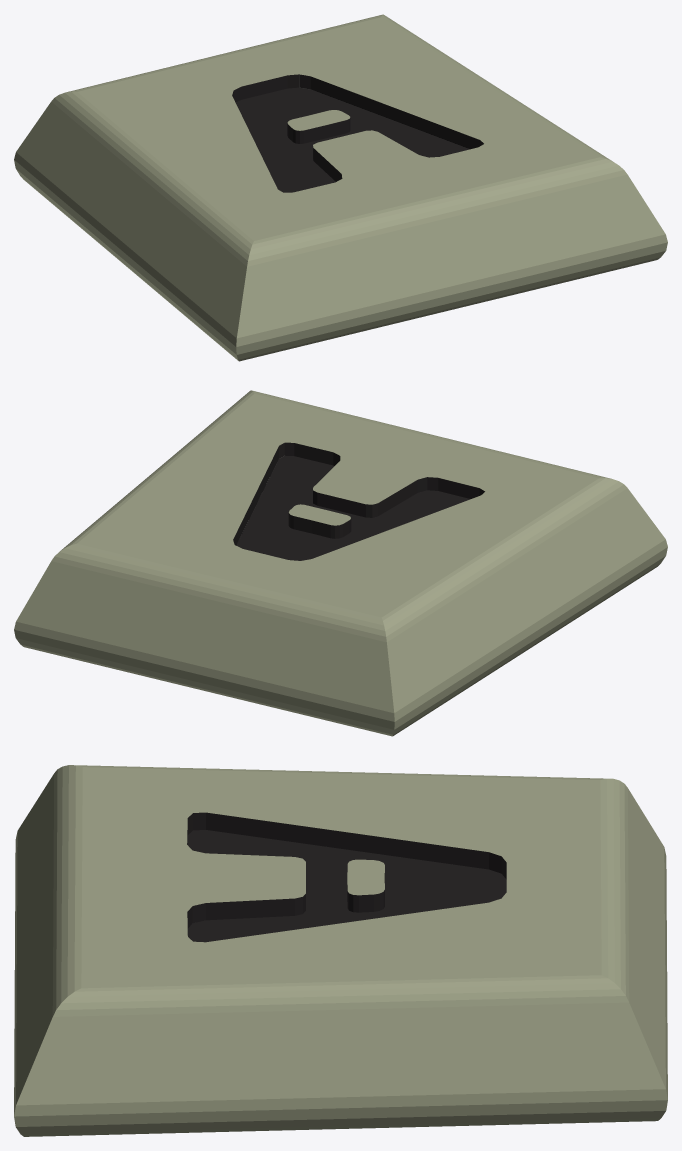
Rendered from a-key.glb.
3 renders of one model, top to bottom at view 1: azimuth 30°, elevation 25°; view 2: azimuth 150°, elevation 25°; view 3: azimuth 270°, elevation 25°, orthographic. The views are drawn at different scales.
Visible parts, largest first — view 1: Cube; view 2: Cube; view 3: Cube.
Part boxes in pixels (box(x1,y1,x2,y2)): Cube: box(14, 14, 667, 361); Cube: box(14, 390, 667, 736); Cube: box(14, 765, 667, 1136).
Bounding box in the file's own units: 1.89 × 0.4002 × 1.89.
2 materials, 1 textured.
